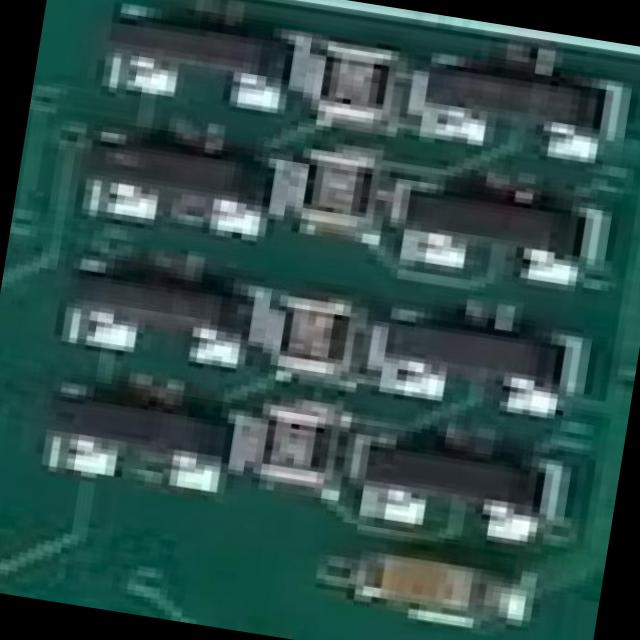capacitor: (370, 548, 489, 622)
resistor: (262, 289, 352, 380), (297, 146, 388, 231), (313, 40, 398, 125), (257, 403, 331, 489)
transistor: (394, 158, 582, 288), (368, 421, 558, 544), (369, 292, 556, 416), (424, 36, 606, 156), (104, 0, 293, 115), (77, 246, 251, 370), (89, 116, 268, 235), (59, 382, 235, 496)
